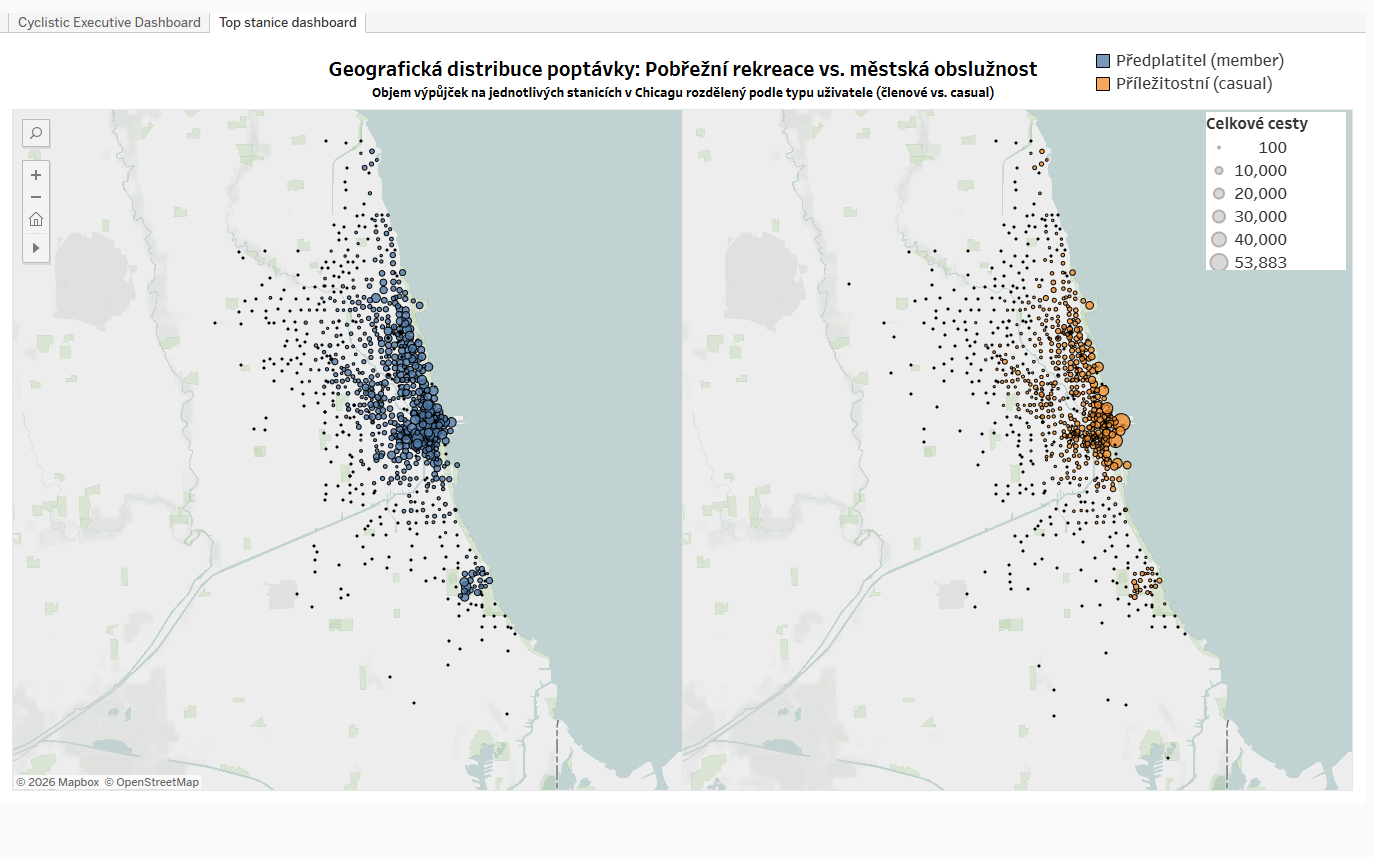

What the dashboard file says about the page in this screenshot:
{"tool":"tableau","page":{"name":"Top stanice dashboard","canvas":[1366,768],"ordinal":1},"visuals":[{"type":"worksheet","title":"Top stanice","mark":"Circle","rows":["station_lat"],"cols":["member_casual","station_lng"],"box":[8,8,1350,752]},{"type":"legend","title":"Top stanice","param":"[federated.1flv6j00yxvykl125zad91w5uzby].[none:member_casual:nk]","box":[1091,14,220,60]},{"type":"legend","title":"Top stanice","param":"[federated.1flv6j00yxvykl125zad91w5uzby].[sum:total_trips:qk]","box":[1206,77,140,158]}]}

Visuals, with their boxes on the page's 1366x768 design canvas (x1, y1, x2, y2). These are canvas units, not pixel positions in the 1375x857 screenshot, which may show the page scaled, cropped or inside an application window:
"Top stanice" worksheet (Circle marks): bbox=[8, 8, 1358, 760]
"Top stanice" legend: bbox=[1091, 14, 1311, 74]
"Top stanice" legend: bbox=[1206, 77, 1346, 235]
